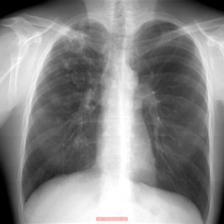tuberculosis: (14, 14, 212, 224)
